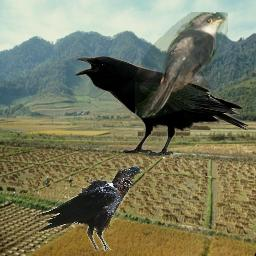Crow: (75, 56, 249, 158), (33, 166, 142, 251)
Cuckoo: (135, 12, 228, 121)
